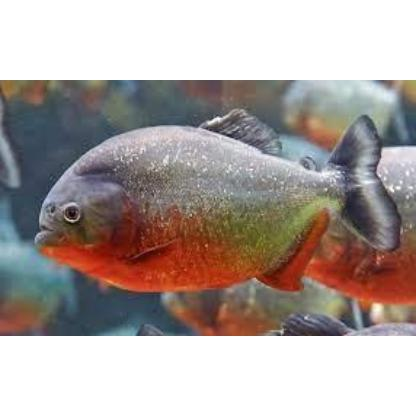ikan-pacu: (36, 116, 370, 292)
